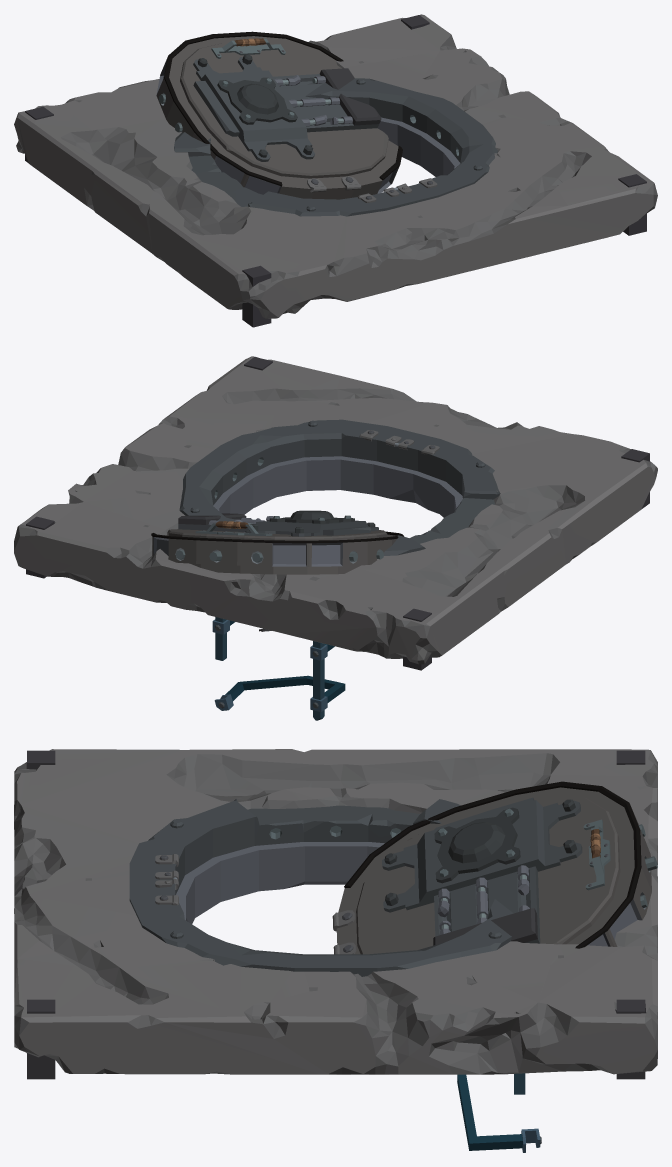
Rendered from SM_Concrete_Floor_Witch_Hatch_Broken_Lvl_2.glb.
3 renders of one model, top to bottom at view 1: azimuth 30°, elevation 25°; view 2: azimuth 150°, elevation 25°; view 3: azimuth 270°, elevation 25°, orthographic. The views are drawn at different scales.
Visible parts, largest first — view 1: SM_Concrete_Floor_Witch_Hatch_Broken_Lvl_2, SM_Concrete_Hatch_Broken_Lvl_2; view 2: SM_Concrete_Floor_Witch_Hatch_Broken_Lvl_2, SM_Concrete_Hatch_Broken_Lvl_2; view 3: SM_Concrete_Floor_Witch_Hatch_Broken_Lvl_2, SM_Concrete_Hatch_Broken_Lvl_2.
Part boxes in pixels (box(x1,y1,x2,y2)): SM_Concrete_Floor_Witch_Hatch_Broken_Lvl_2: box(14, 14, 657, 327); SM_Concrete_Hatch_Broken_Lvl_2: box(156, 31, 402, 199); SM_Concrete_Floor_Witch_Hatch_Broken_Lvl_2: box(14, 356, 657, 720); SM_Concrete_Hatch_Broken_Lvl_2: box(151, 510, 404, 574); SM_Concrete_Floor_Witch_Hatch_Broken_Lvl_2: box(14, 749, 657, 1152); SM_Concrete_Hatch_Broken_Lvl_2: box(332, 781, 657, 954).
Bounding box in the file's own units: 2 × 0.9994 × 2.
Materials: 1 (1 with a texture image).
